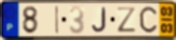3: (69, 5, 86, 36)
8: (22, 5, 39, 35)
C: (138, 5, 158, 34)
I: (55, 5, 60, 36)
J: (91, 7, 108, 34)
Z: (116, 6, 138, 33)
